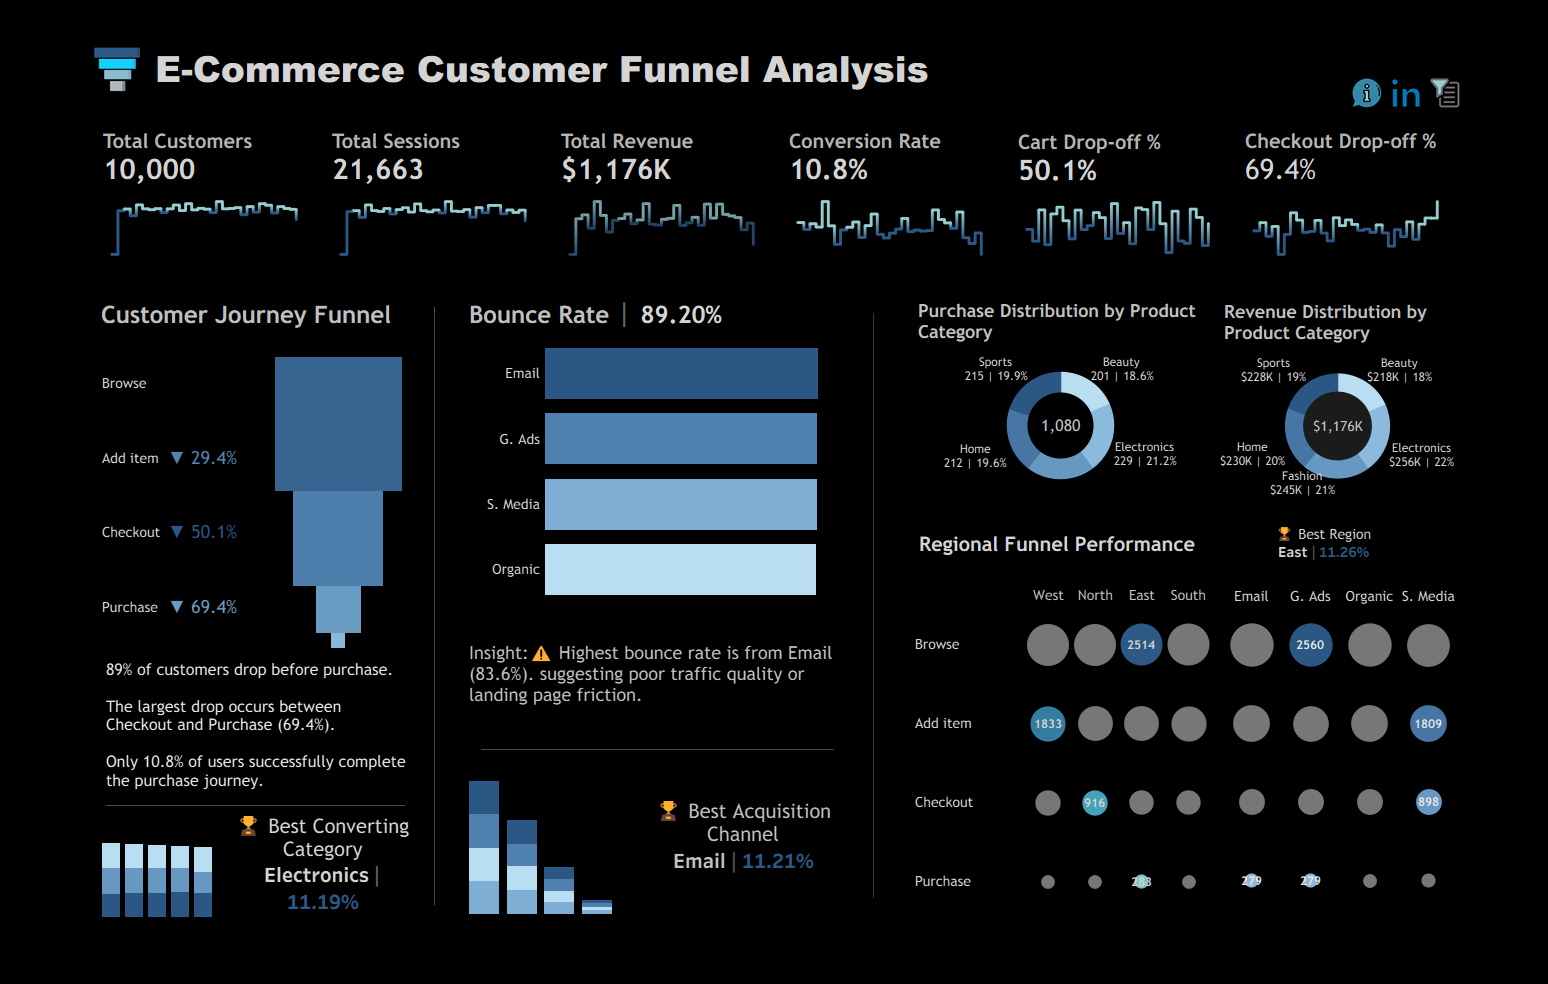

Layout of this report page (visuals, bound fields, positions):
{"tool":"tableau","page":{"name":"Funnel Dashboard (2)","canvas":[1400,900],"ordinal":1},"visuals":[{"type":"image","param":"Image/funnel-analysis.png","box":[15,5,57,54]},{"type":"text","box":[72,5,1313,54]},{"type":"parameter","param":"[Parameters].[Parameter 0201230325182511]","box":[1212,62,187,112]},{"type":"worksheet","title":"KPI Customers","mark":"Automatic","rows":["User_ID"],"cols":["Timestamp"],"box":[15,79,229,151]},{"type":"worksheet","title":"KPI Session","mark":"Automatic","rows":["Session_ID"],"cols":["Timestamp"],"box":[244,79,229,151]},{"type":"worksheet","title":"KPI Revenue","mark":"Automatic","rows":["Revenue"],"cols":["Timestamp"],"box":[473,79,228,151]},{"type":"worksheet","title":"Conversion Rate","mark":"Automatic","rows":["Calculation_0201230314414118"],"cols":["Timestamp"],"box":[701,79,228,151]},{"type":"worksheet","title":"cart abandon rate","mark":"Automatic","rows":["Calculation_0958244350889984"],"cols":["Timestamp"],"box":[929,79,228,151]},{"type":"worksheet","title":"Checkout Abandon rate","mark":"Automatic","rows":["Calculation_0958244353859589"],"cols":["Timestamp"],"box":[1157,79,228,151]},{"type":"blank","box":[1212,174,187,32]},{"type":"filter","title":"Funnel","param":"[federated.14km1rp1xbfnts10ckl0917l9za0].[none:Channel:nk]","box":[1212,206,187,66]},{"type":"text","box":[99.1,250,366.9,55.1]},{"type":"blank","box":[466,250,32,638]},{"type":"worksheet","title":"Bounce vs channel","mark":"Bar","rows":["Channel"],"cols":["Calculation_0958244437028886"],"box":[503,250,411,319]},{"type":"blank","box":[919,250,35,638]},{"type":"worksheet","title":"Conversion","mark":"Pie","cols":["Calculation_0201230352937013","Calculation_0201230352937013"],"box":[954,250,436,220]},{"type":"blank","box":[106,251,1292,58]},{"type":"filter","title":"Funnel","param":"[federated.14km1rp1xbfnts10ckl0917l9za0].[none:Event:nk]","box":[1212,272,187,66]},{"type":"dashboard-object","box":[20,276,60,56]},{"type":"worksheet","title":"Drop level","mark":"Text","rows":["Event"],"box":[107.1,305.1,165,330.9]},{"type":"worksheet","title":"Funnel","mark":"Automatic","rows":["Session_ID"],"box":[272,305.1,189,330.9]},{"type":"text","box":[106,309,1292,294]},{"type":"filter","title":"Funnel","param":"[federated.14km1rp1xbfnts10ckl0917l9za0].[none:Device:nk]","box":[1212,338,187,66]},{"type":"dashboard-object","box":[23,362,47,37]},{"type":"filter","title":"Funnel","param":"[federated.14km1rp1xbfnts10ckl0917l9za0].[none:Region:nk]","box":[1212,404,187,66]},{"type":"blank","box":[10,409.5,89.1,79.3]},{"type":"text","box":[954,470,436,74]},{"type":"filter","title":"KPI Revenue","param":"[federated.14km1rp1xbfnts10ckl0917l9za0].[none:Product_Category:nk]","box":[1212,470,187,66]},{"type":"dashboard-object","box":[10,488.9,89.1,75.4]},{"type":"worksheet","title":"event vs region","mark":"Circle","rows":["Event"],"cols":["Region"],"box":[954,544,436,344]},{"type":"dashboard-object","box":[10,564.2,89.1,72]},{"type":"worksheet","title":"bounce insight","mark":"Text","rows":["Channel"],"box":[503,569,411,137]},{"type":"blank","box":[106,603,1292,252]},{"type":"worksheet","title":"insight","mark":"Text","box":[107.1,636,353.9,160]},{"type":"blank","box":[10,636.2,89.1,94.7]},{"type":"blank","box":[503,706,411,1]},{"type":"worksheet","title":"channel wise comparison","mark":"Automatic","rows":["Session_ID"],"cols":["Event"],"box":[503,707,159,181]},{"type":"worksheet","title":"best acquisition channel","mark":"Text","box":[662,707,252,181]},{"type":"blank","box":[10,730.9,89.1,77.5]},{"type":"blank","box":[107.1,796,353.9,1]},{"type":"worksheet","title":"Bset converting category","mark":"Text","box":[107.1,797,353.9,91]},{"type":"image","param":"Image/linkedin.png","box":[10,808.4,57,79.6]},{"type":"blank","box":[67,808.4,32.1,79.6]}]}

Visuals, with their boxes in screenshot pixels (x1, y1, x2, y2), scaled from the page's 1400x900 canvas onto the 1548x984 screenshot:
image: x1=17 y1=5 x2=80 y2=65
text: x1=80 y1=5 x2=1531 y2=65
parameter: x1=1340 y1=68 x2=1547 y2=190
"KPI Customers" worksheet: x1=17 y1=86 x2=270 y2=251
"KPI Session" worksheet: x1=270 y1=86 x2=523 y2=251
"KPI Revenue" worksheet: x1=523 y1=86 x2=775 y2=251
"Conversion Rate" worksheet: x1=775 y1=86 x2=1027 y2=251
"cart abandon rate" worksheet: x1=1027 y1=86 x2=1279 y2=251
"Checkout Abandon rate" worksheet: x1=1279 y1=86 x2=1531 y2=251
blank: x1=1340 y1=190 x2=1547 y2=225
"Funnel" filter: x1=1340 y1=225 x2=1547 y2=297
text: x1=110 y1=273 x2=515 y2=334
blank: x1=515 y1=273 x2=551 y2=971
"Bounce vs channel" worksheet (Bar marks): x1=556 y1=273 x2=1011 y2=622
blank: x1=1016 y1=273 x2=1055 y2=971
"Conversion" worksheet (Pie marks): x1=1055 y1=273 x2=1537 y2=514
blank: x1=117 y1=274 x2=1546 y2=338
"Funnel" filter: x1=1340 y1=297 x2=1547 y2=370
dashboard-object: x1=22 y1=302 x2=88 y2=363
"Drop level" worksheet (Text marks): x1=118 y1=334 x2=301 y2=695
"Funnel" worksheet: x1=301 y1=334 x2=510 y2=695
text: x1=117 y1=338 x2=1546 y2=659
"Funnel" filter: x1=1340 y1=370 x2=1547 y2=442
dashboard-object: x1=25 y1=396 x2=77 y2=436
"Funnel" filter: x1=1340 y1=442 x2=1547 y2=514
blank: x1=11 y1=448 x2=110 y2=534
text: x1=1055 y1=514 x2=1537 y2=595
"KPI Revenue" filter: x1=1340 y1=514 x2=1547 y2=586
dashboard-object: x1=11 y1=535 x2=110 y2=617
"event vs region" worksheet (Circle marks): x1=1055 y1=595 x2=1537 y2=971
dashboard-object: x1=11 y1=617 x2=110 y2=696
"bounce insight" worksheet (Text marks): x1=556 y1=622 x2=1011 y2=772
blank: x1=117 y1=659 x2=1546 y2=935
"insight" worksheet (Text marks): x1=118 y1=695 x2=510 y2=870
blank: x1=11 y1=696 x2=110 y2=799
blank: x1=556 y1=772 x2=1011 y2=773
"channel wise comparison" worksheet: x1=556 y1=773 x2=732 y2=971
"best acquisition channel" worksheet (Text marks): x1=732 y1=773 x2=1011 y2=971
blank: x1=11 y1=799 x2=110 y2=884
blank: x1=118 y1=870 x2=510 y2=871
"Bset converting category" worksheet (Text marks): x1=118 y1=871 x2=510 y2=971
image: x1=11 y1=884 x2=74 y2=971
blank: x1=74 y1=884 x2=110 y2=971
